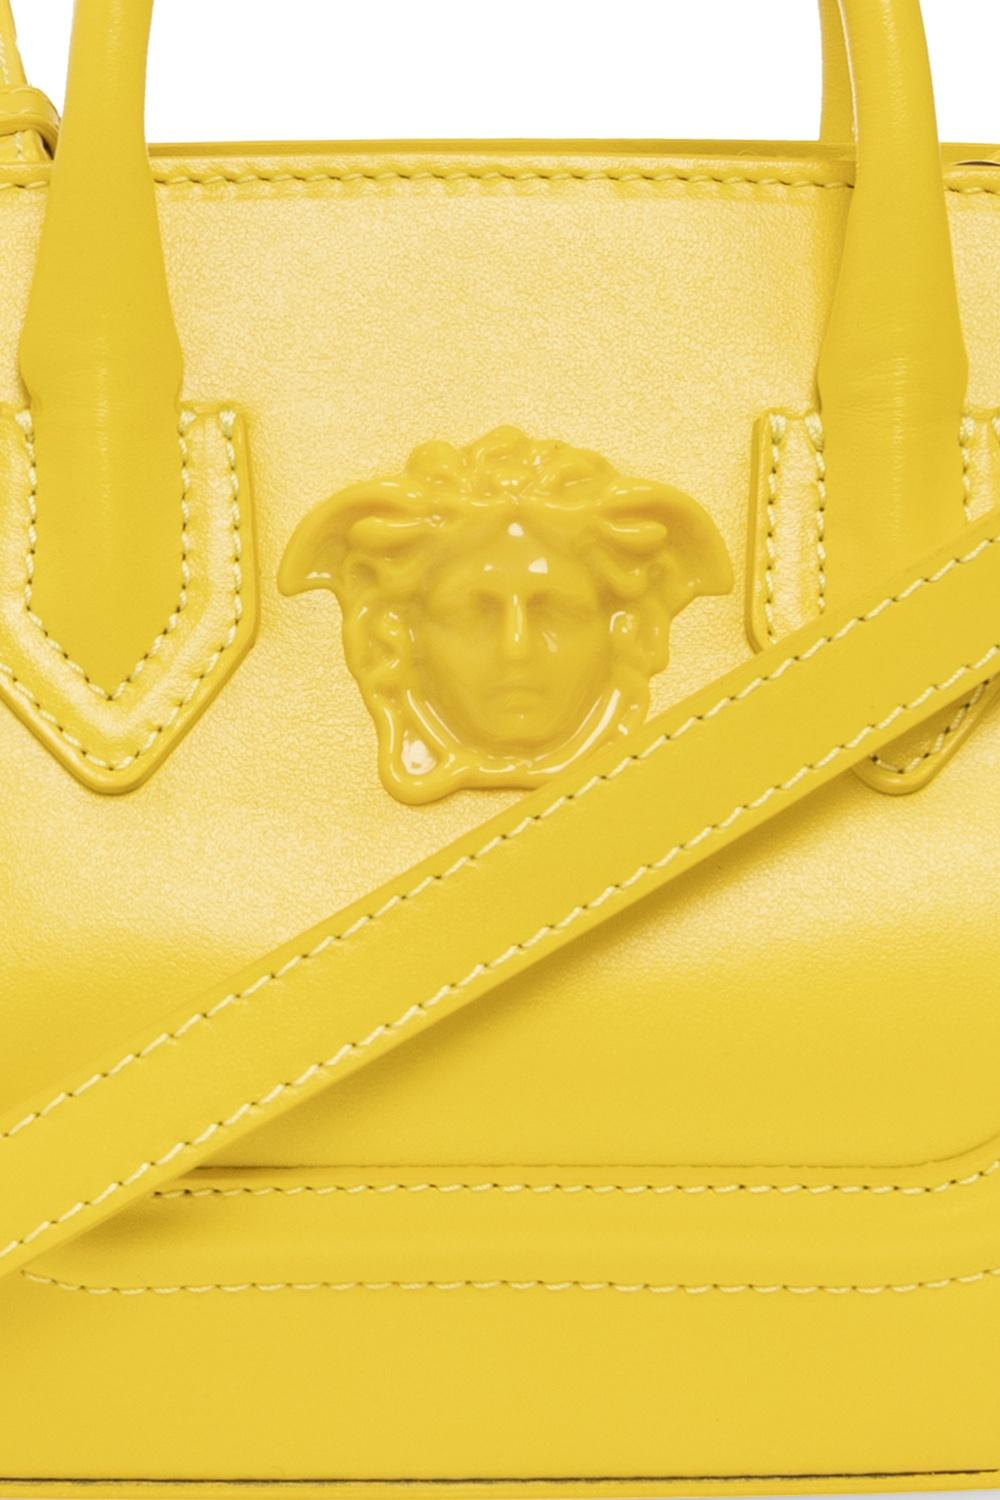VERSACE: (276, 422, 738, 806)
